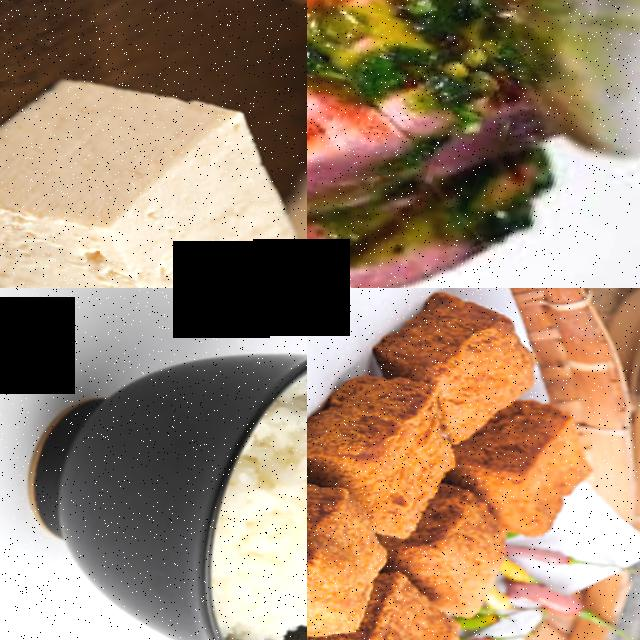tofu: (0, 51, 307, 288), (307, 358, 483, 520), (365, 288, 558, 411), (462, 390, 614, 537), (307, 473, 411, 640), (347, 573, 486, 640)
white rice: (191, 360, 307, 640)
